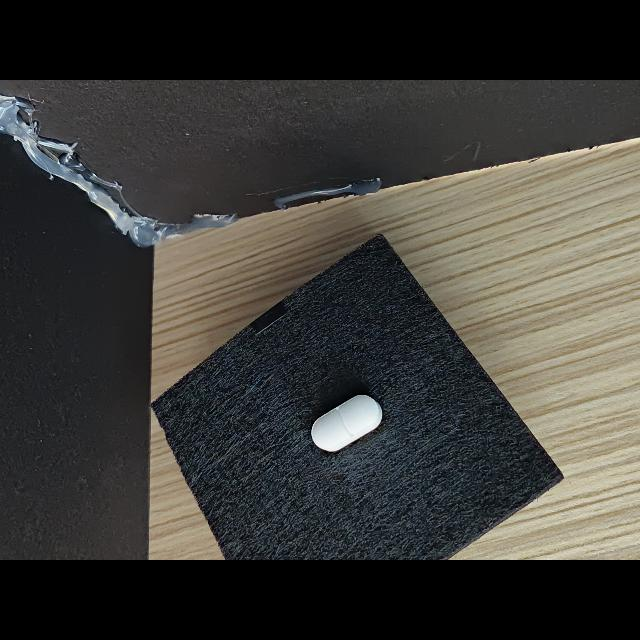Intact Pill: (311, 395, 382, 451)
